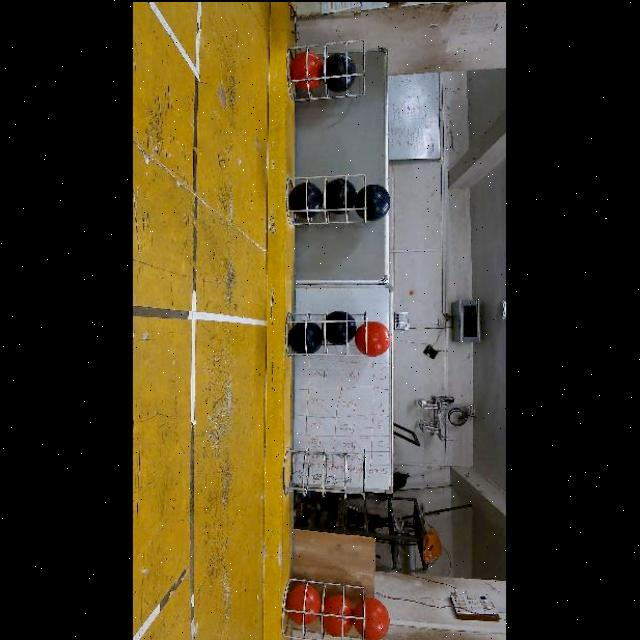P: (354, 183, 391, 220), (289, 181, 324, 218), (324, 51, 356, 91), (325, 309, 358, 344), (326, 176, 356, 213), (289, 321, 324, 352)
R: (354, 596, 390, 640), (286, 584, 321, 626), (322, 592, 355, 636), (290, 49, 324, 88), (355, 321, 391, 356)
S: (281, 570, 369, 640), (282, 36, 368, 106), (284, 170, 370, 230), (282, 444, 370, 502), (283, 306, 371, 358)
